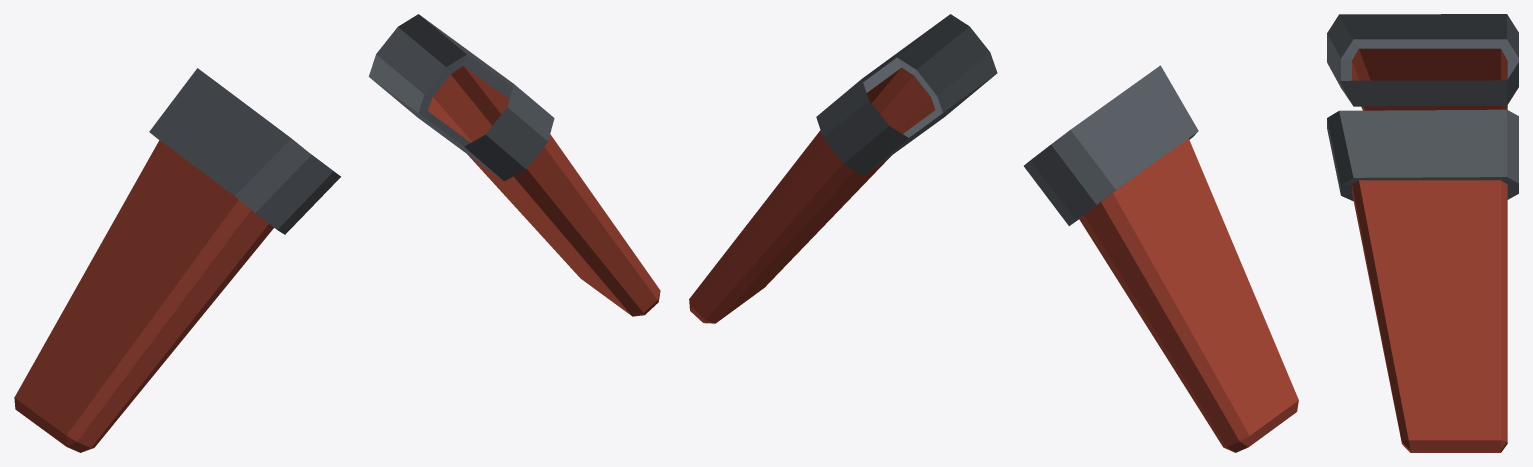
Rendered from Personal_Vehicle_04_Rear_Wings_Red.fbx.
The picture shows the model from 3 angles, left to right: view 1: azimuth 30°, elevation 25°; view 2: azimuth 150°, elevation 25°; view 3: azimuth 270°, elevation 25°; orthographic projection. The views are drawn at different scales.
Parts seen in each view (by area): view 1: Personal_Vehicle_04_Rear_Wings_Red; view 2: Personal_Vehicle_04_Rear_Wings_Red; view 3: Personal_Vehicle_04_Rear_Wings_Red.
Part boxes in pixels (x1,y1,x2,y2): Personal_Vehicle_04_Rear_Wings_Red: (14, 14, 660, 452); Personal_Vehicle_04_Rear_Wings_Red: (689, 14, 1298, 452); Personal_Vehicle_04_Rear_Wings_Red: (1327, 14, 1518, 452).
Bounding box in the file's own units: 111 × 54.22 × 35.07.
Materials: 1 (1 with a texture image).
